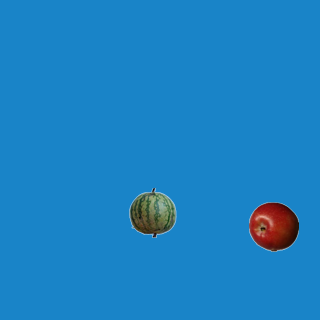Apple Braeburn: (248, 201, 298, 251)
Watermelon: (127, 187, 177, 237)
